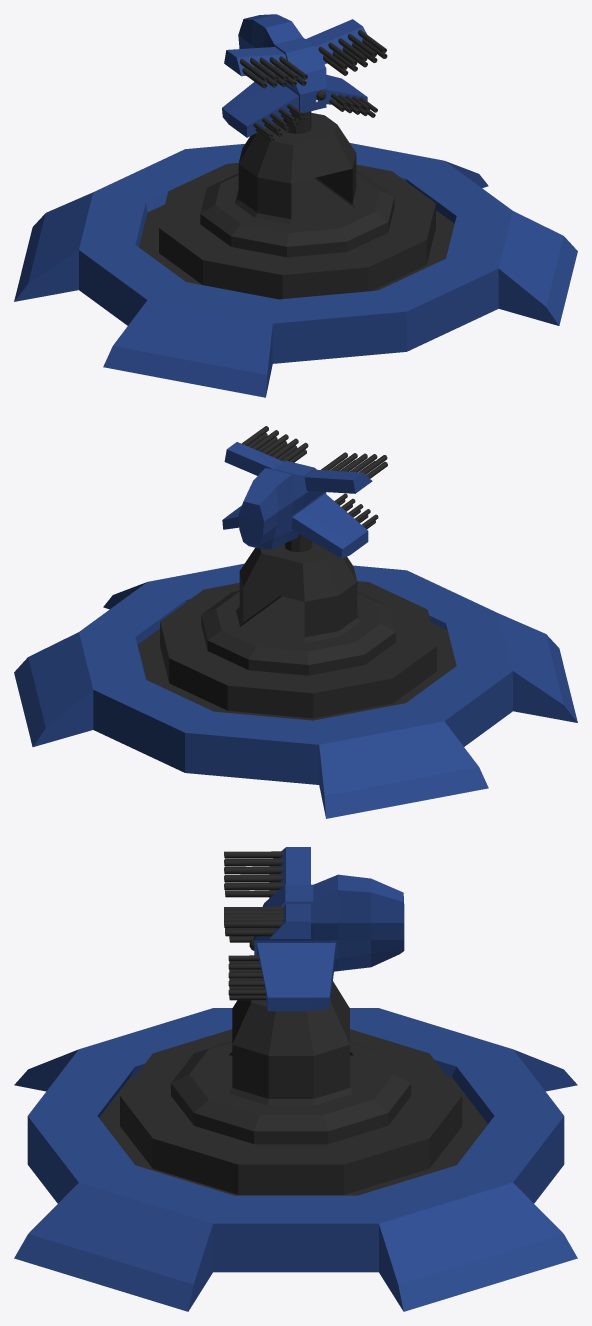
Rendered from DefensiveTurretUpgraded.fbx.
3 views of the same model, one above another, from view 1: azimuth 30°, elevation 25°; view 2: azimuth 150°, elevation 25°; view 3: azimuth 270°, elevation 25° (orthographic). The views are drawn at different scales.
Visible parts, largest first — view 1: UpgradedVersion; view 2: UpgradedVersion; view 3: UpgradedVersion.
Part boxes in pixels (<box>): UpgradedVersion: <box>14,14,577,397</box>; UpgradedVersion: <box>14,426,577,818</box>; UpgradedVersion: <box>14,847,577,1311</box>.
Bounding box in the file's own units: 61.77 × 29.75 × 52.55.
